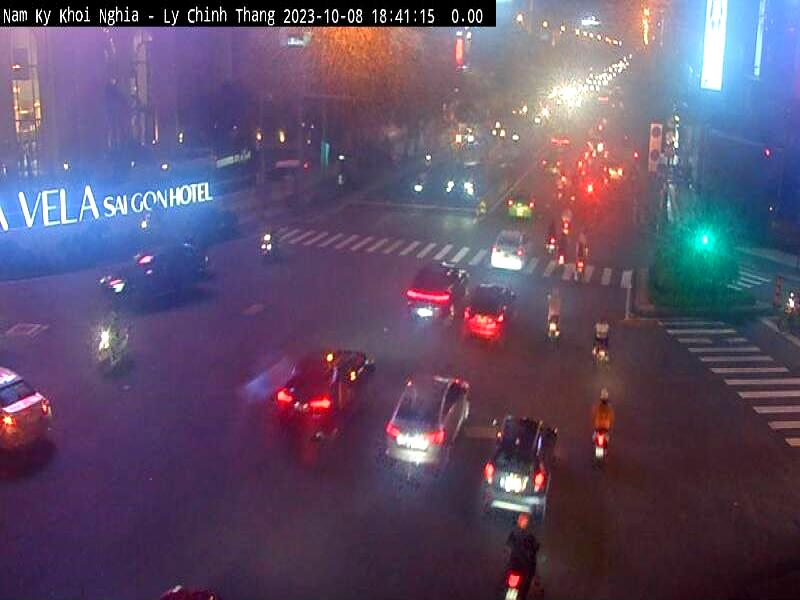car: (385, 354, 484, 476), (484, 408, 564, 504), (0, 363, 56, 496), (403, 258, 461, 334), (457, 274, 518, 345), (488, 226, 530, 280)
